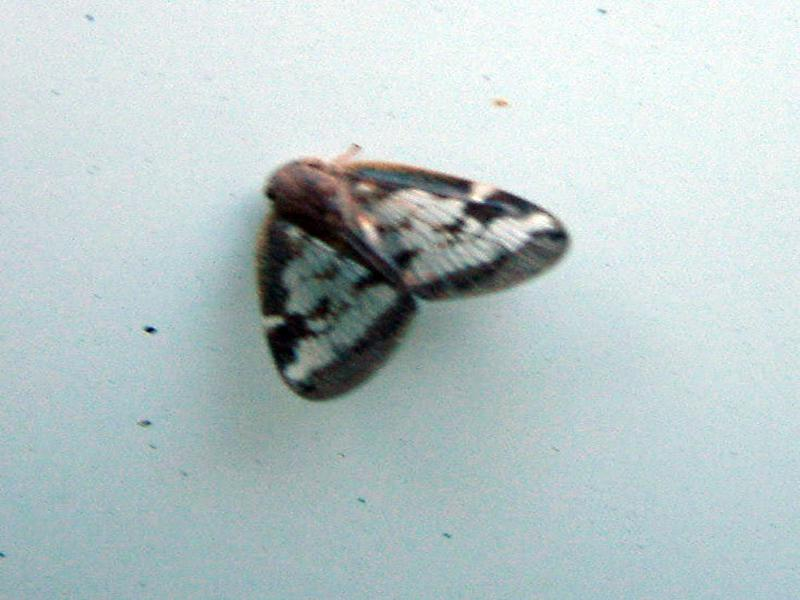Brown_plant_leafhopper: (197, 145, 577, 409)
